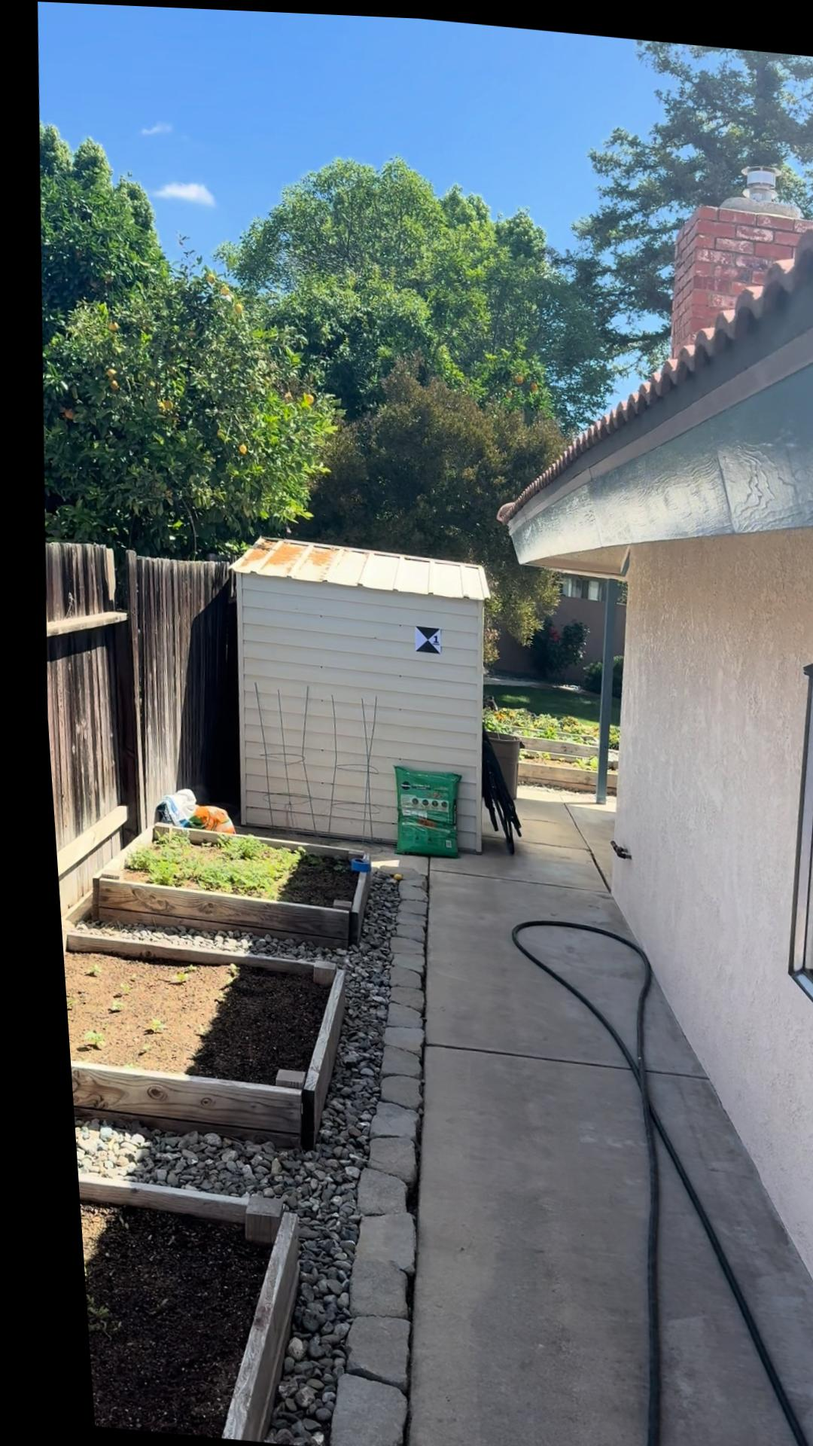target1: (413, 623, 444, 656)
